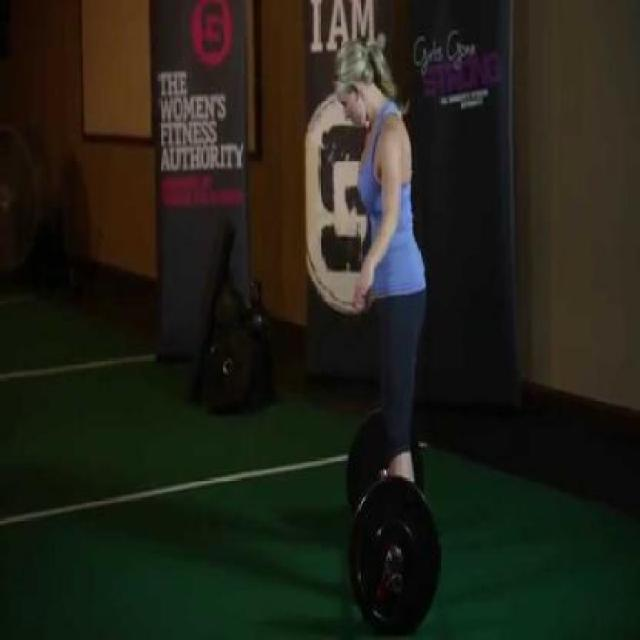barbell: (327, 461, 464, 639)
